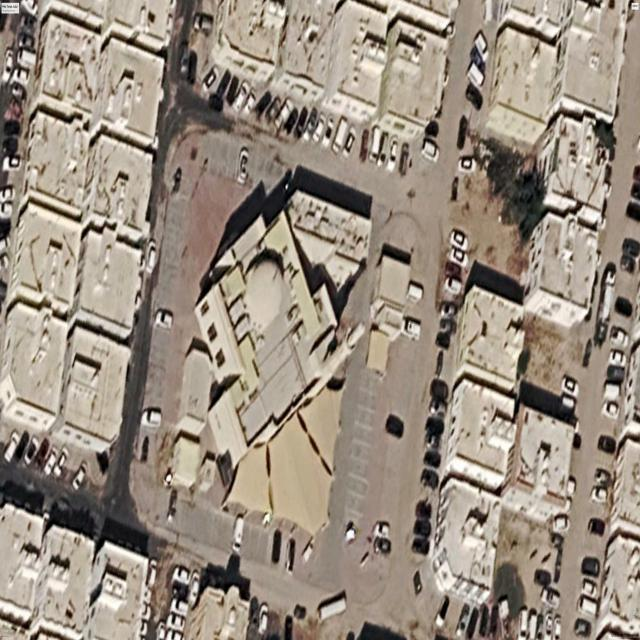Home: (195, 212, 364, 468)
